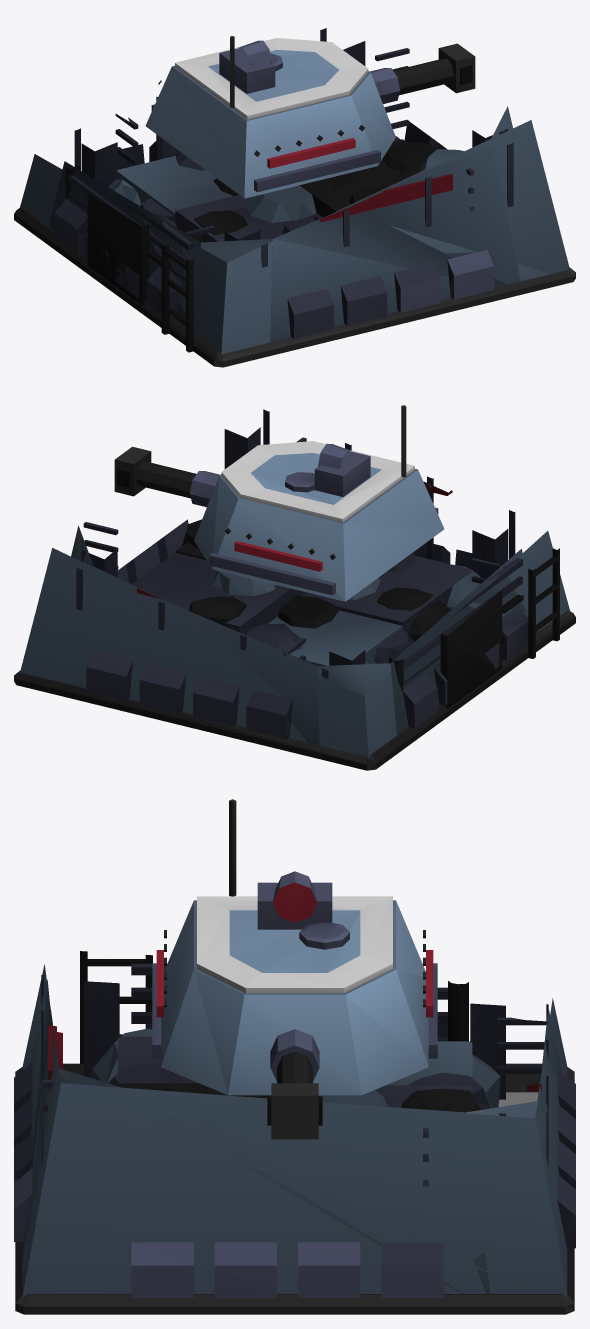
Rendered from veyran_defence_tower_heavily_damaged.glb.
3 renders of one model, top to bottom at view 1: azimuth 30°, elevation 25°; view 2: azimuth 150°, elevation 25°; view 3: azimuth 270°, elevation 25°, orthographic. The views are drawn at different scales.
Visible parts, largest first — view 1: body (×3), turret (×2), barrel; view 2: body (×3), turret (×2), barrel; view 3: body (×3), turret (×2), barrel (×2).
Part boxes in pixels (bbox=[...]): body (×3): bbox=[14, 28, 575, 367]; turret (×2): bbox=[145, 36, 395, 198]; barrel: bbox=[370, 43, 475, 103]; body (×3): bbox=[14, 409, 575, 770]; turret (×2): bbox=[194, 405, 444, 601]; barrel: bbox=[114, 446, 219, 507]; body (×3): bbox=[14, 951, 575, 1314]; turret (×2): bbox=[152, 799, 437, 1095]; barrel (×2): bbox=[267, 1029, 322, 1139].
Bounding box in the file's own units: 3.85 × 2.51 × 3.78.
